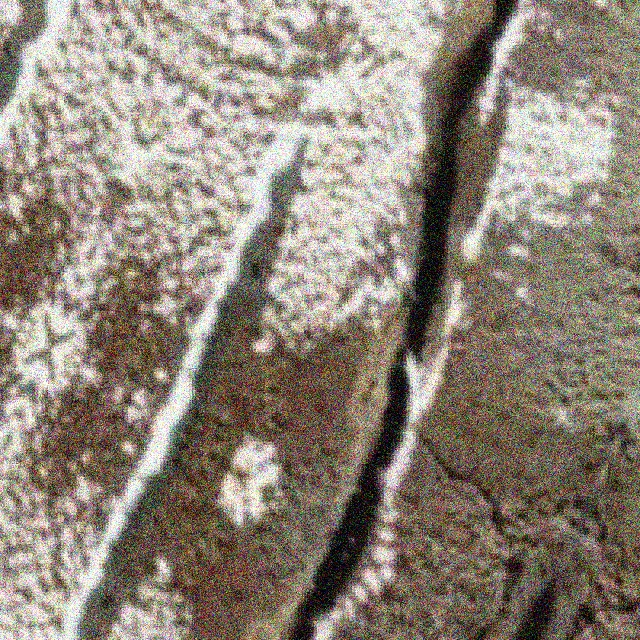SurfaceCrack: (256, 0, 576, 640)
